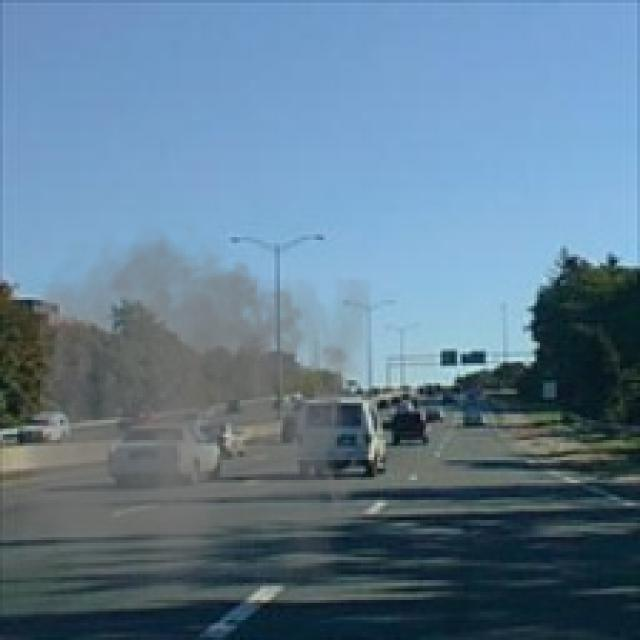smoke: (17, 214, 372, 603)
